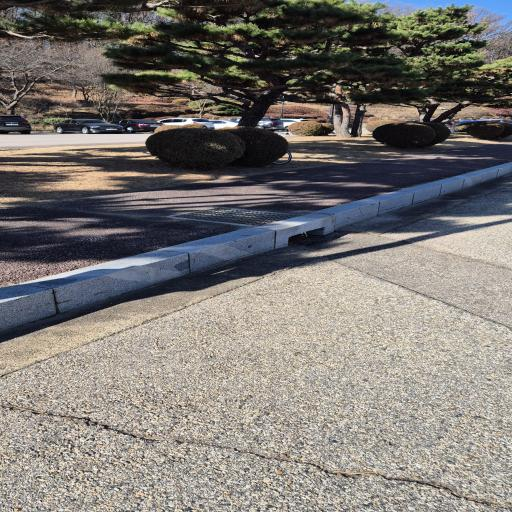drain: (167, 207, 294, 226)
